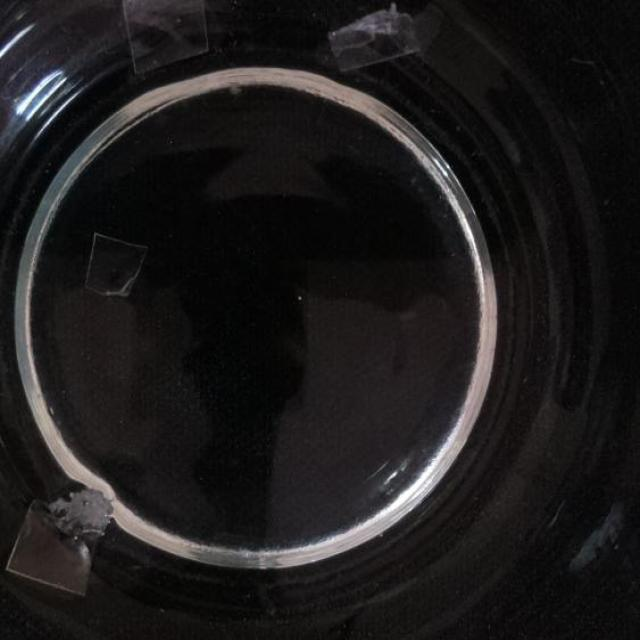fiber: (5, 485, 114, 592), (324, 0, 424, 69), (119, 0, 212, 69), (86, 232, 143, 296), (414, 0, 442, 47)
